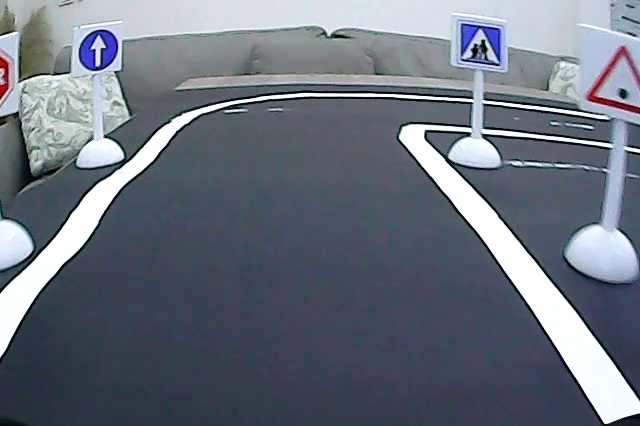green light: (585, 42, 640, 118)
school crossing: (456, 20, 505, 69)
